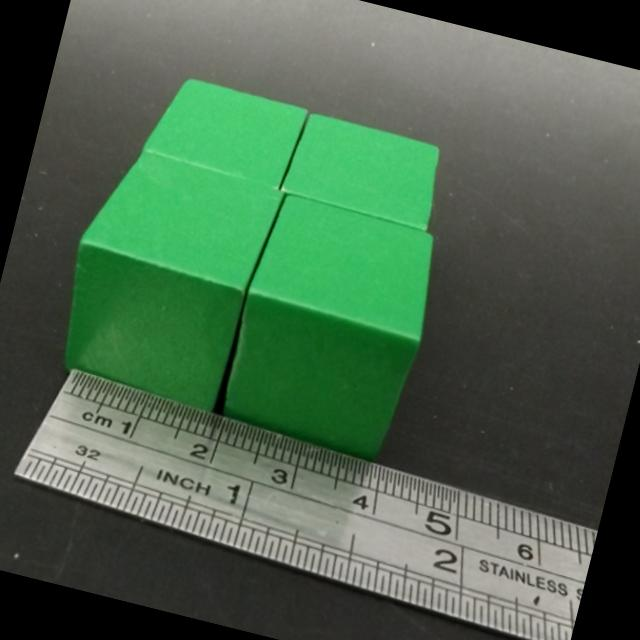green cube: (222, 194, 436, 464), (66, 152, 286, 412), (140, 73, 310, 191), (280, 112, 438, 233)
